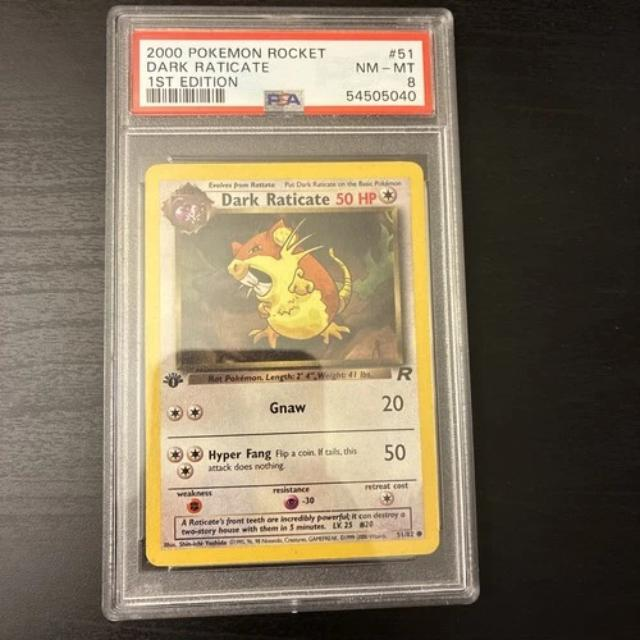Card: (138, 154, 446, 572)
Name: (216, 188, 333, 214)
